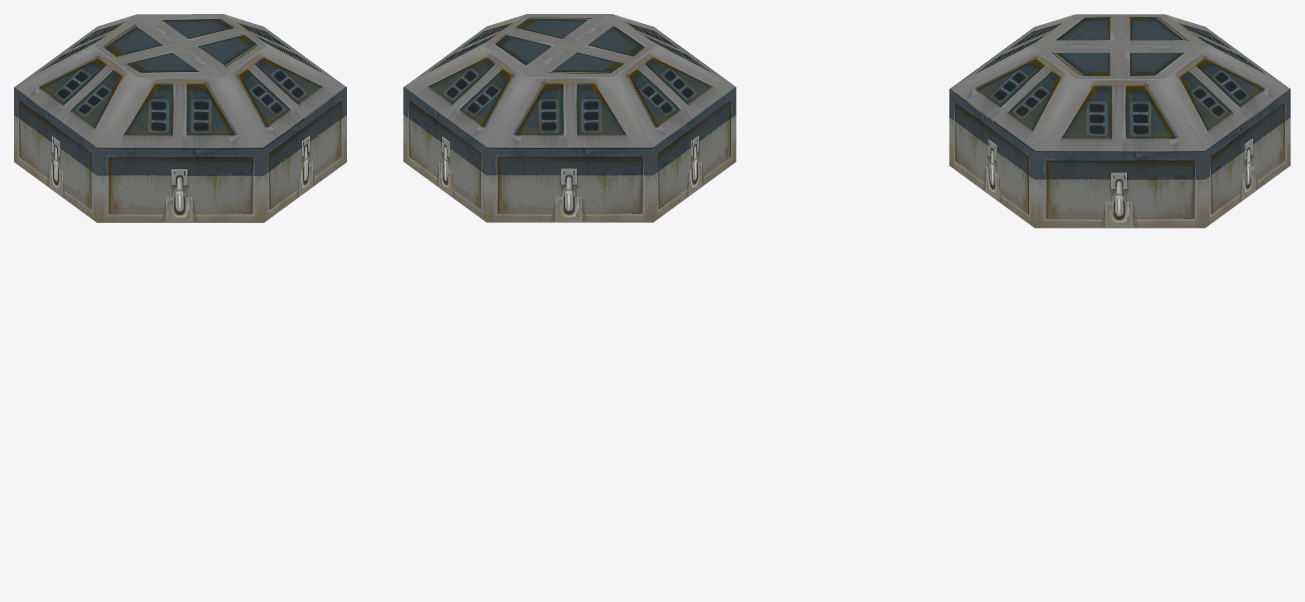
File: autocannonpopup_hdtex.glb
The picture shows the model from 3 angles, left to right: view 1: azimuth 30°, elevation 25°; view 2: azimuth 150°, elevation 25°; view 3: azimuth 270°, elevation 25°; orthographic projection. The views are drawn at different scales.
Visible parts, largest first — view 1: Doorbase, Door05, Door06, Door03, Door02; view 2: Doorbase, Door02, Door06, Door03, Door05; view 3: Doorbase, Door03, Door02, Door05, Door06.
Boxes of the visible parts, left/top/right/bottom form: Doorbase: left=14, top=30, right=346, bottom=222; Door05: left=97, top=45, right=346, bottom=148; Door06: left=14, top=14, right=223, bottom=148; Door03: left=138, top=14, right=344, bottom=85; Door02: left=15, top=14, right=236, bottom=86; Doorbase: left=403, top=26, right=736, bottom=222; Door02: left=404, top=45, right=652, bottom=147; Door06: left=527, top=14, right=735, bottom=147; Door03: left=404, top=14, right=612, bottom=86; Door05: left=499, top=14, right=734, bottom=86; Doorbase: left=949, top=27, right=1290, bottom=228; Door03: left=1032, top=46, right=1207, bottom=151; Door02: left=1164, top=14, right=1290, bottom=151; Door05: left=950, top=14, right=1075, bottom=151; Door06: left=1031, top=14, right=1207, bottom=46.
Bounding box in the file's own units: 7.27 × 13.6 × 12.21.
Materials: 4 (4 with a texture image).
